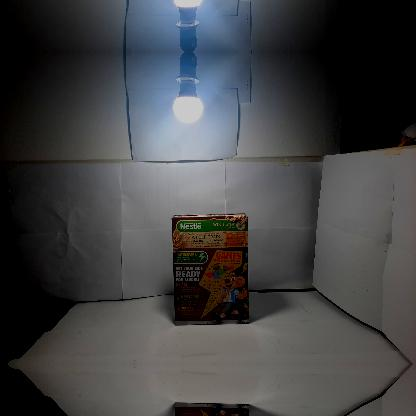Koko-Krunch: (171, 212, 249, 326)
